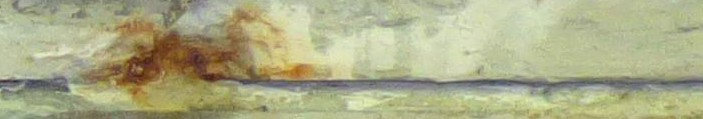Corrosion: (82, 6, 318, 112)
